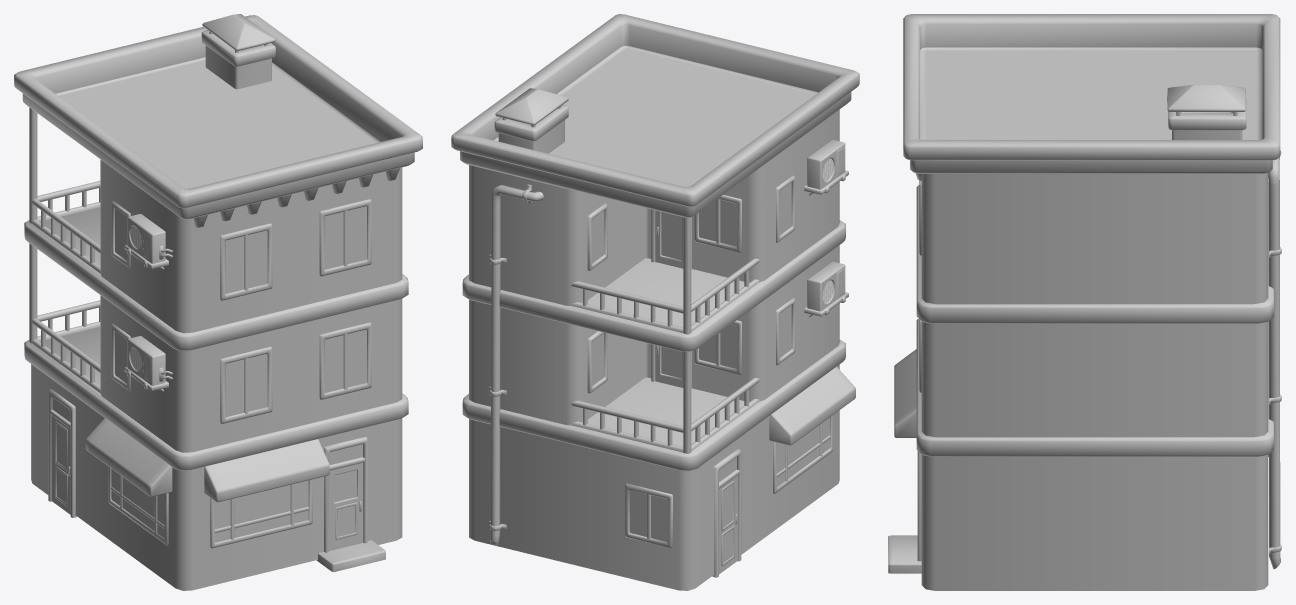
Rendered from house_large_left.fbx.
The picture shows the model from 3 angles, left to right: view 1: azimuth 30°, elevation 25°; view 2: azimuth 150°, elevation 25°; view 3: azimuth 270°, elevation 25°; orthographic projection. The views are drawn at different scales.
Parts seen in each view (by area): view 1: house_large_left; view 2: house_large_left; view 3: house_large_left.
Boxes of the visible parts, left/top/right/bottom form: house_large_left: left=14, top=14, right=422, bottom=590; house_large_left: left=451, top=14, right=859, bottom=590; house_large_left: left=888, top=14, right=1281, bottom=590.
Bounding box in the file's own units: 4.46 × 7.25 × 5.31.
